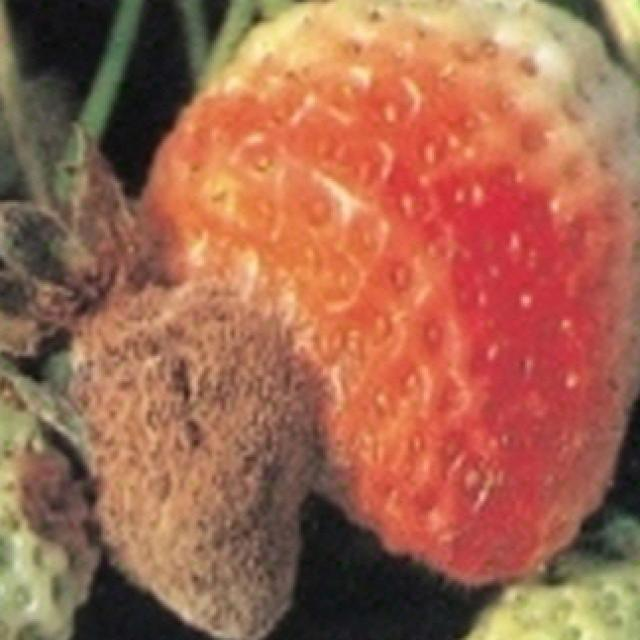Gray Mold: (0, 126, 330, 640)
